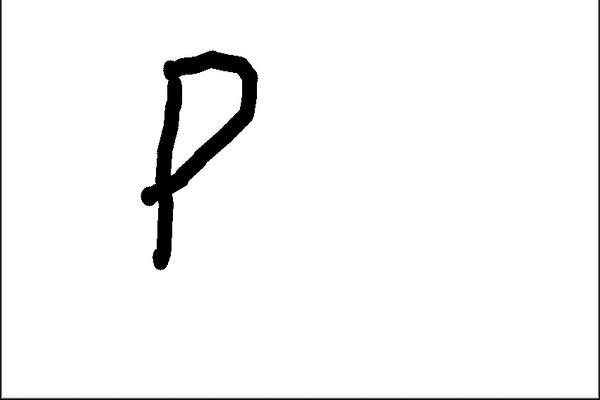P: (132, 41, 264, 274)
